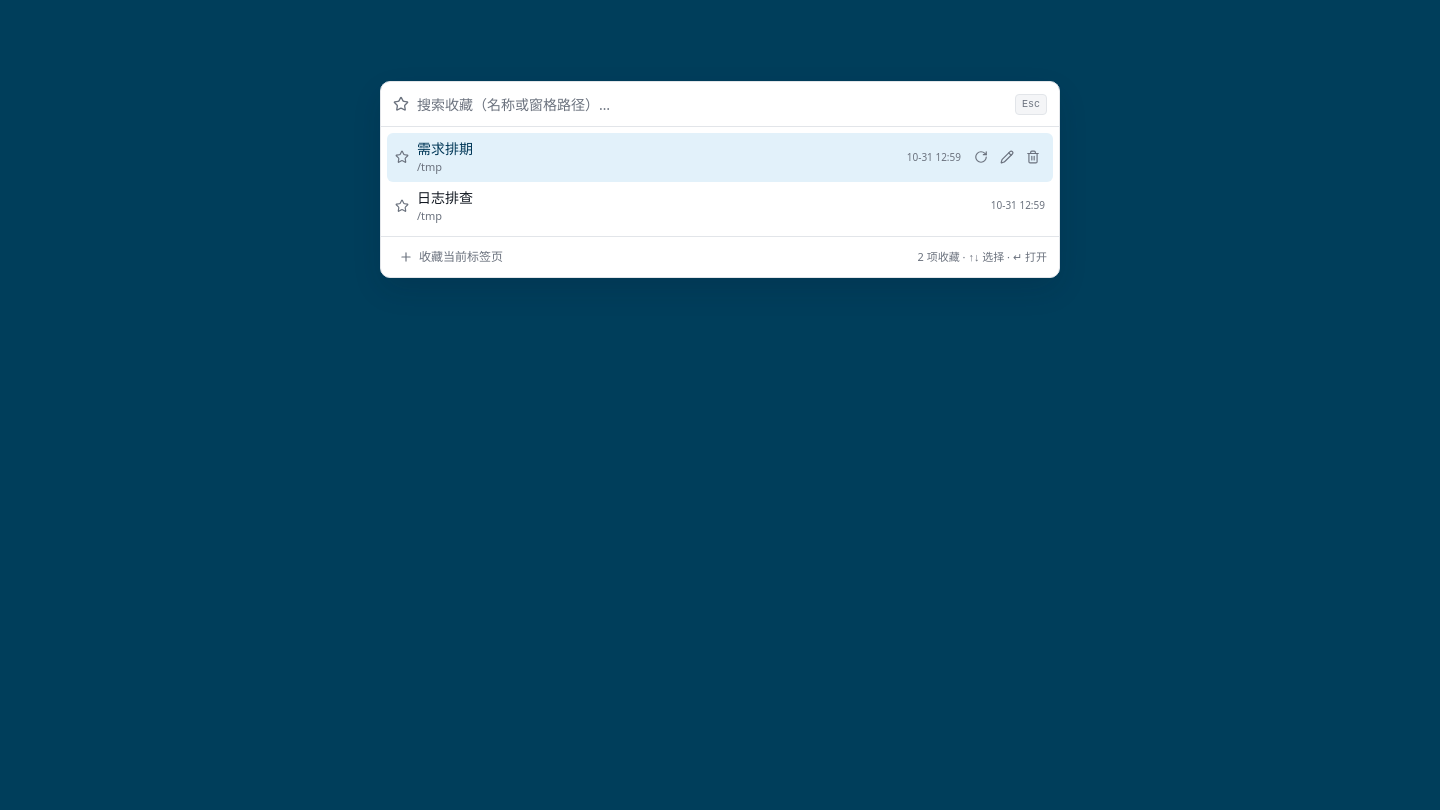
FavoritesPalette 收藏夹面板 › 无匹配查询显示空态
Type "zzz" into the field with placeholder "搜索收藏（名称或窗格路径）…" at (712, 104), box 417,92 -> 1007,116
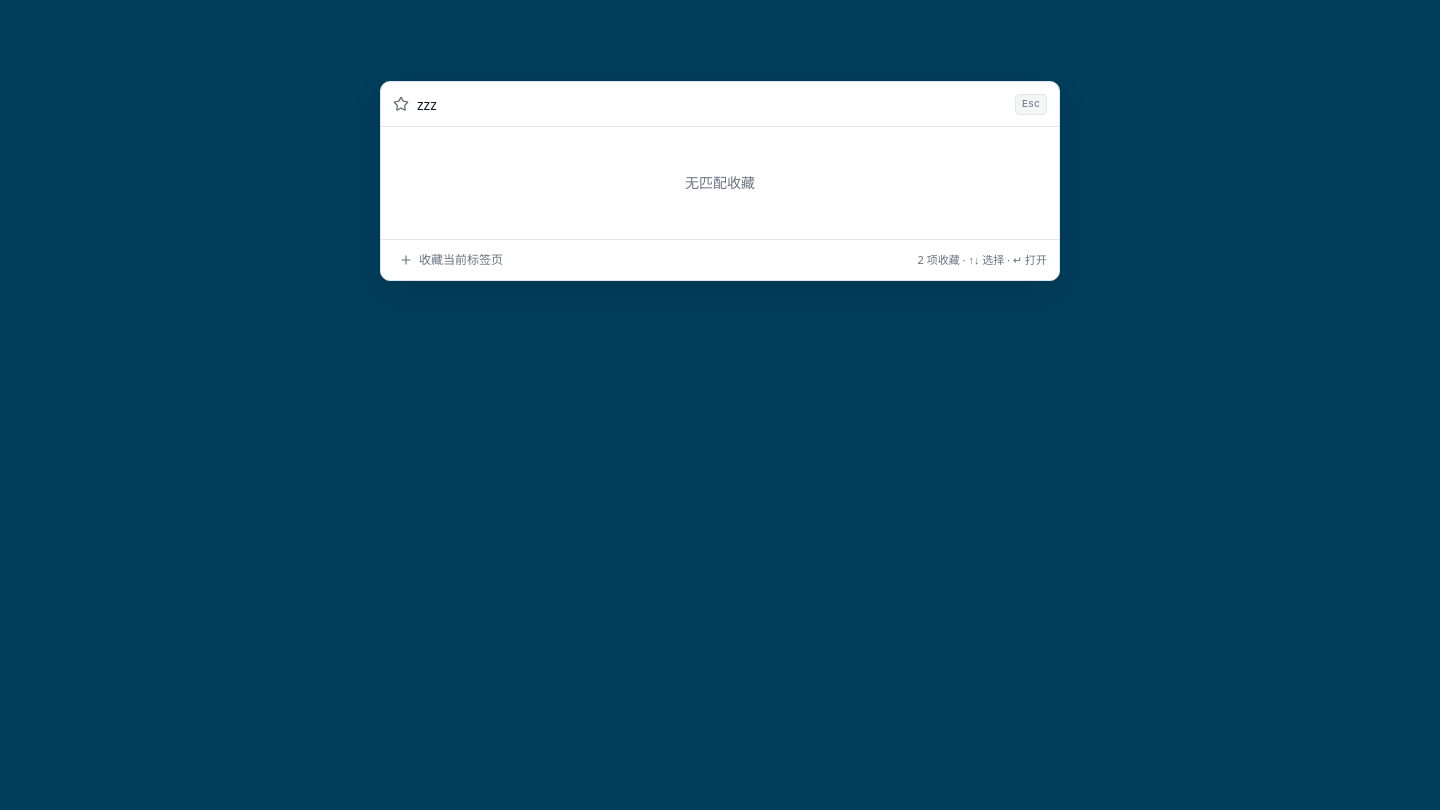
Now the text "无匹配收藏" is shown, box 685,173 -> 755,192
